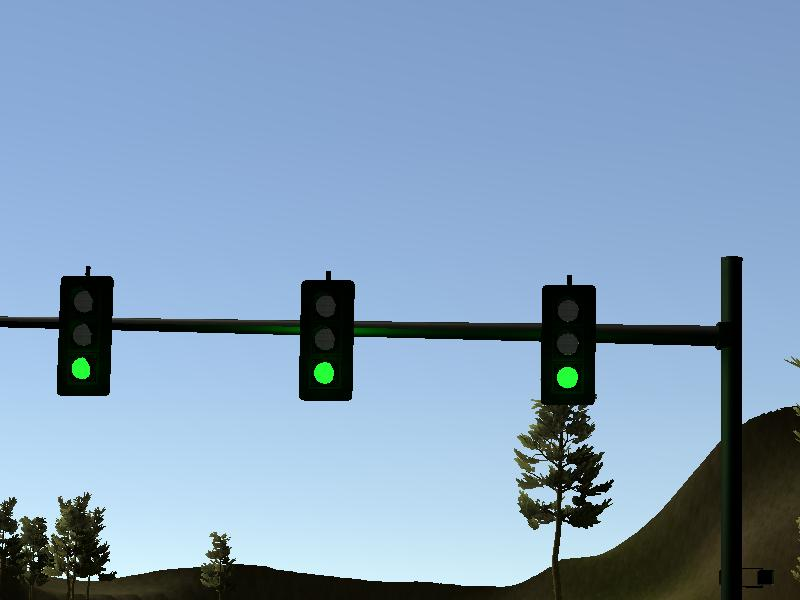green: (55, 274, 113, 399), (297, 277, 355, 402), (539, 282, 597, 407)
